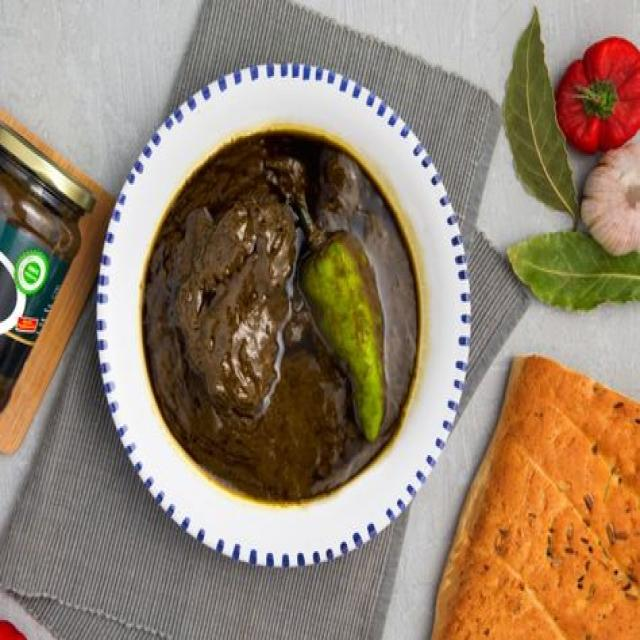Melloukhia: (118, 84, 484, 558)
